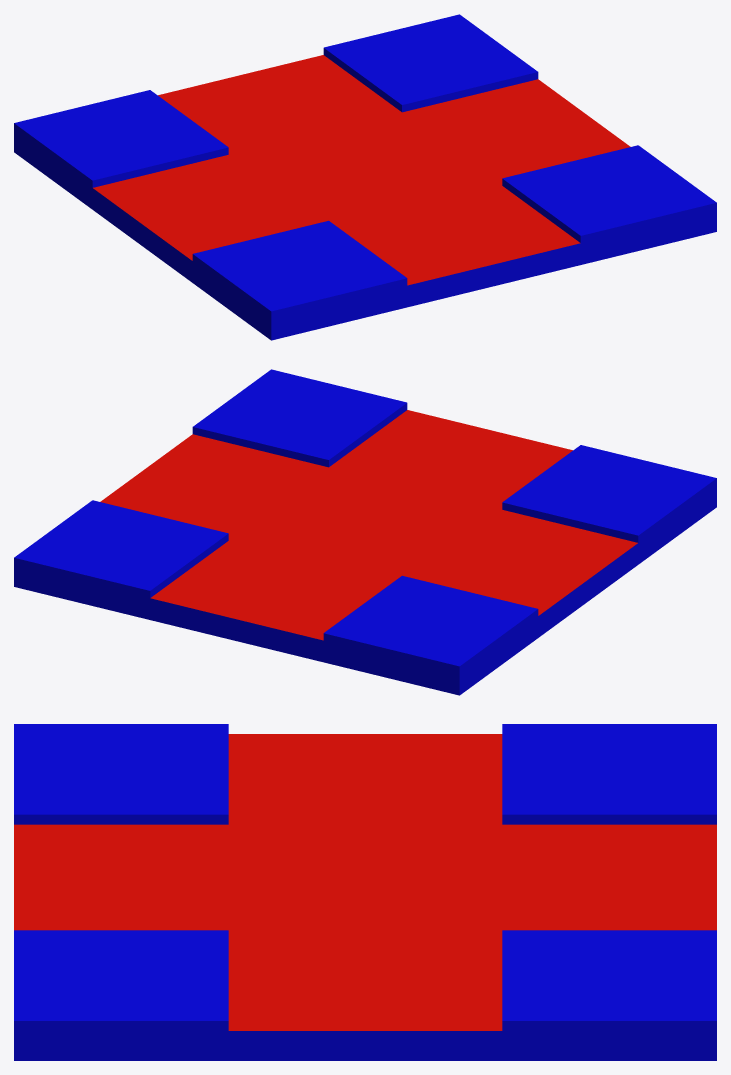
The model's file is Cross.fbx.
3 renders of one model, top to bottom at view 1: azimuth 30°, elevation 25°; view 2: azimuth 150°, elevation 25°; view 3: azimuth 270°, elevation 25°, orthographic. The views are drawn at different scales.
Parts seen in each view (by area): view 1: Plane.003; view 2: Plane.003; view 3: Plane.003.
Part boxes in pixels (x1=…): Plane.003: x1=14, y1=14, x2=716, y2=340; Plane.003: x1=14, y1=369, x2=716, y2=695; Plane.003: x1=14, y1=724, x2=716, y2=1060.
Bounding box in the file's own units: 1600 × 100 × 1600.
